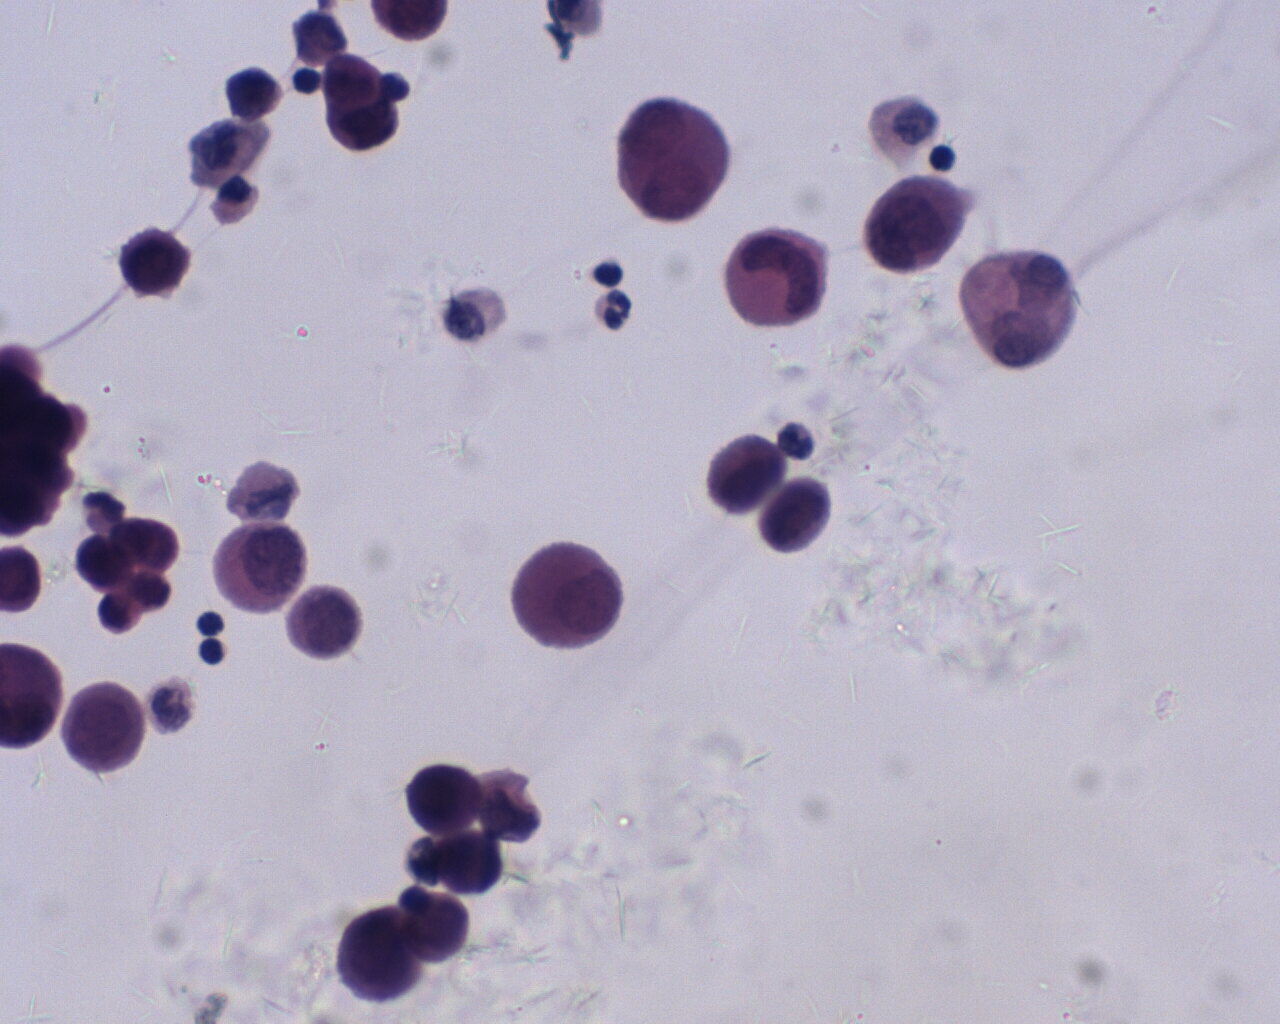ab: (616, 92, 732, 222), (862, 170, 968, 272), (727, 227, 827, 331), (211, 519, 306, 616), (59, 678, 146, 773), (338, 907, 422, 1004), (703, 429, 783, 514), (757, 476, 837, 556), (404, 763, 485, 836), (289, 586, 360, 660), (120, 227, 191, 299)
lymph: (928, 144, 960, 174), (195, 607, 227, 637), (196, 638, 224, 666)
neutro: (594, 289, 634, 330)
